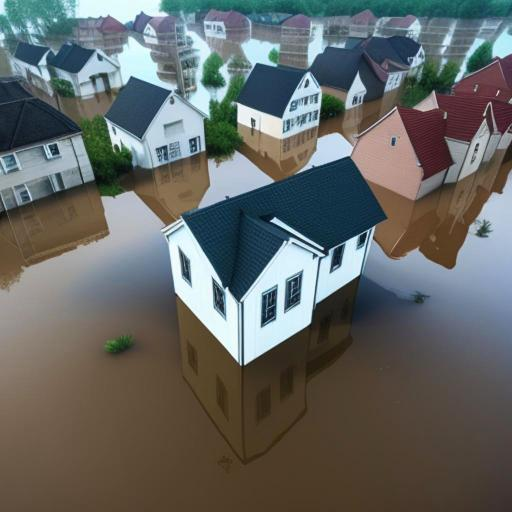flood: (0, 90, 512, 512), (99, 18, 344, 112), (418, 18, 512, 77), (20, 80, 116, 122), (0, 46, 11, 76)
house: (161, 154, 389, 368), (349, 84, 485, 208), (0, 68, 94, 212), (98, 75, 206, 171), (436, 49, 512, 181), (235, 56, 321, 162), (29, 30, 117, 104), (312, 40, 382, 112), (10, 36, 52, 98), (201, 9, 251, 41), (142, 14, 185, 46), (279, 14, 325, 42), (82, 15, 124, 45)
